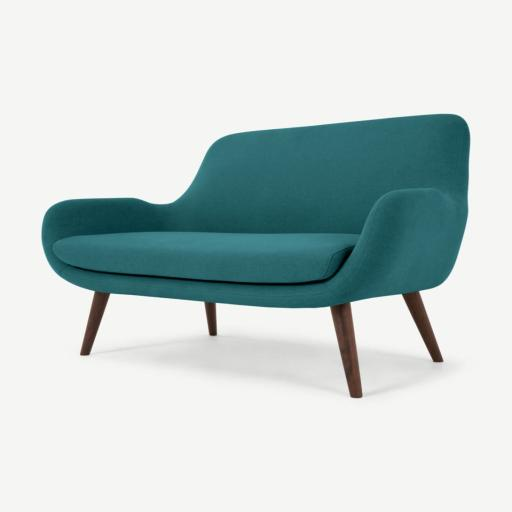back_cushion: (178, 116, 463, 233)
base: (57, 260, 360, 307)
left_arm: (326, 189, 461, 303)
legs: (331, 303, 362, 397), (404, 292, 442, 362), (81, 291, 109, 355), (205, 302, 216, 335)
one-seater: (42, 114, 470, 397)
right_arm: (42, 198, 177, 274)
seat_cushion: (50, 231, 359, 284)
